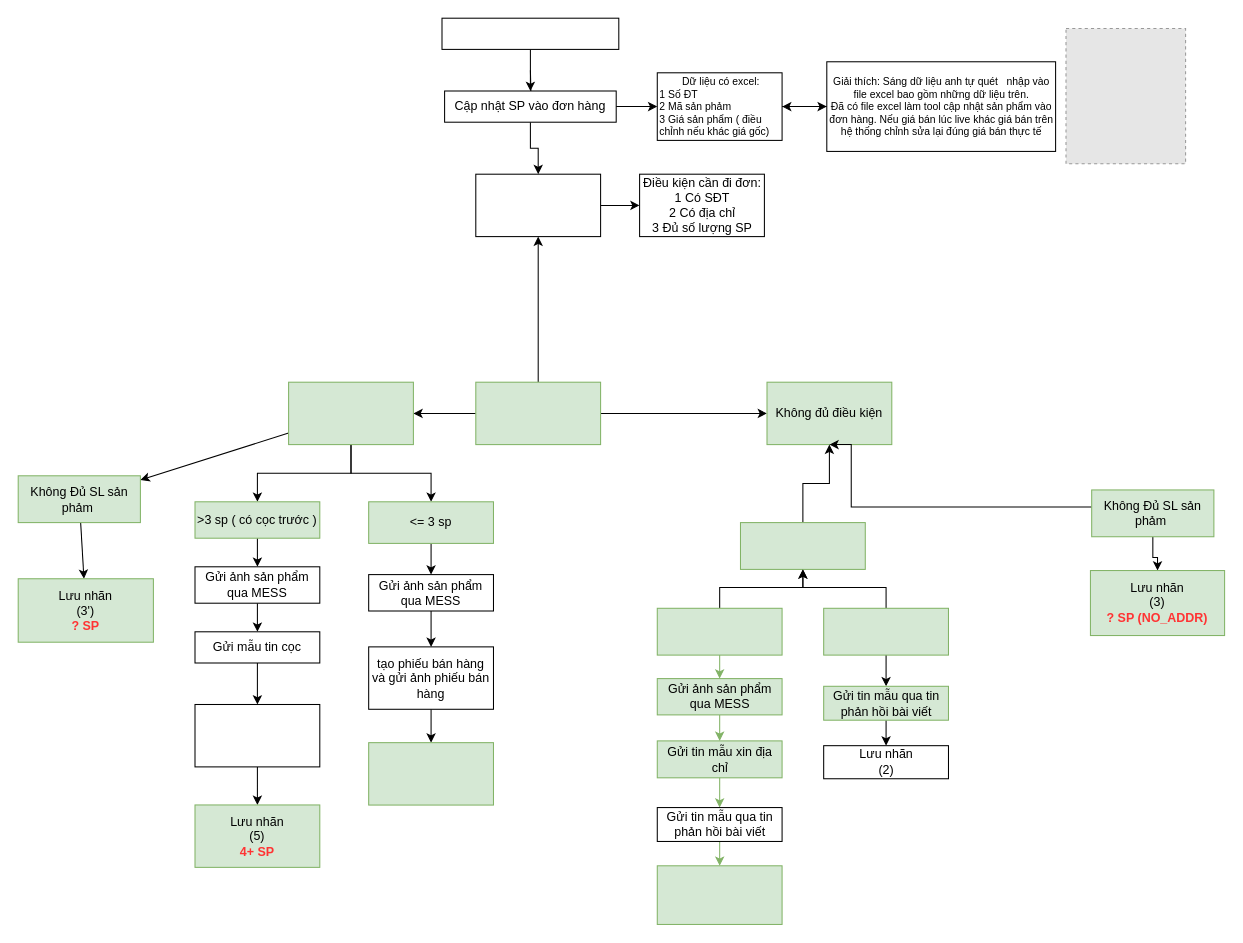
This 1243x943 diagram has some shape labels left out. Grey dashed boxes stand in for pictures. Here are the shapes that lost their labels. From the top down, the centre of each, then its label:
At pixel 530 33: "QUY TRÌNH CHỐT ĐƠN".
At pixel 538 205: "Xác nhận đơn hàng".
At pixel 350 413: "Đủ điều kiện".
At pixel 538 413: "ĐỊA CHỈ".
At pixel 802 545: "ĐỦ SL sản phẩm".
At pixel 719 631: "Nhắn được".
At pixel 885 631: "Không nhắn được".
At pixel 257 735: "tạo phiếu bán hàng và gửi ảnh phiếu bán hàng (có cọc)".
At pixel 430 773: "Lưu nhãn (4) <= 3 SP".
At pixel 719 894: "Lưu nhãn (1) OK SP (NO_ADDR)".
